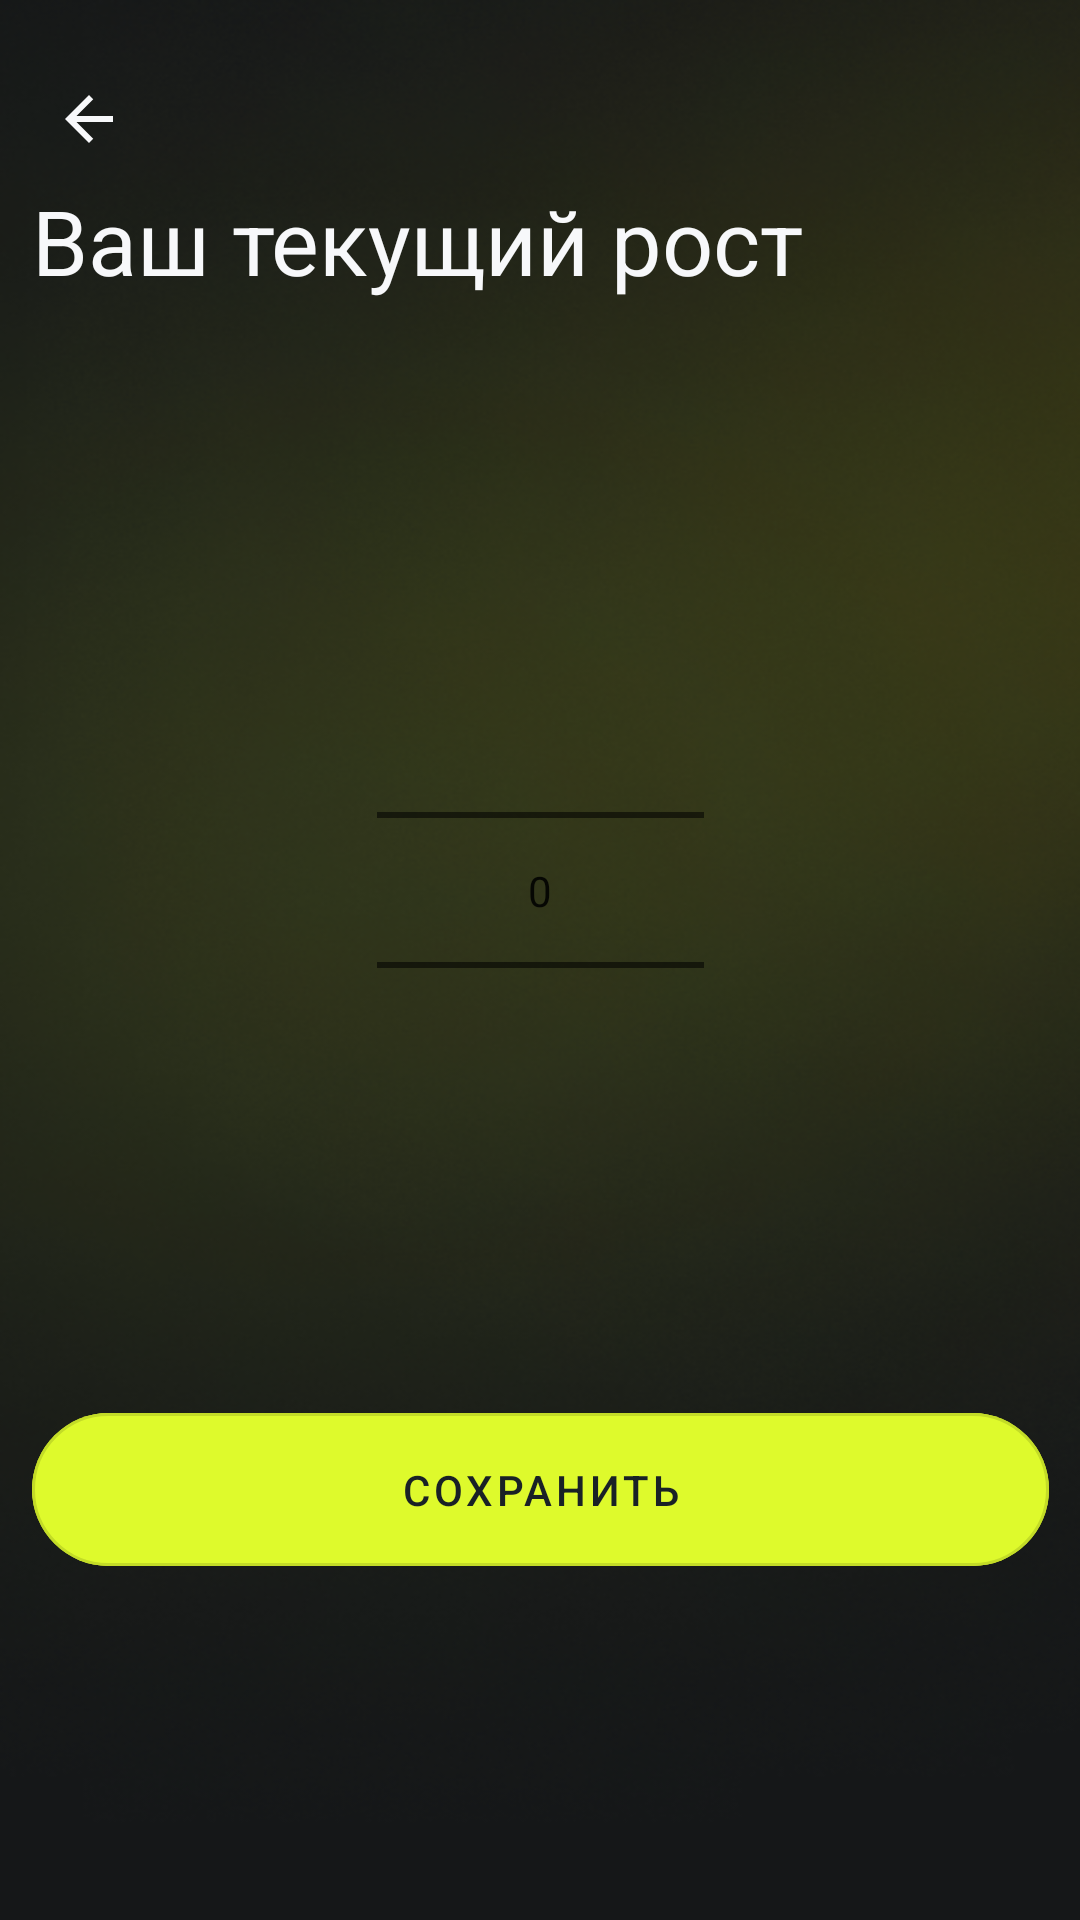

Screen size 1080x1920. Icon name, then its center in pixels as [x,y]:
iconbackvector: [89,119]
